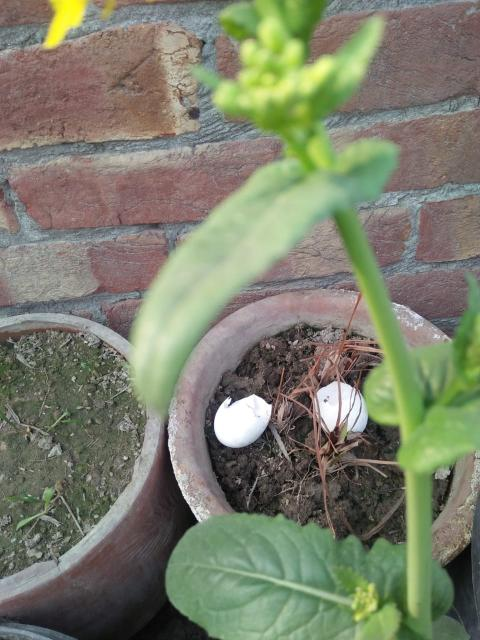Roto: (212, 392, 272, 448), (312, 380, 368, 438)
